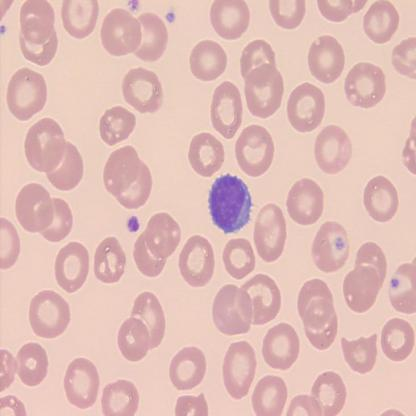Lymphocyte: (207, 172, 254, 235)
